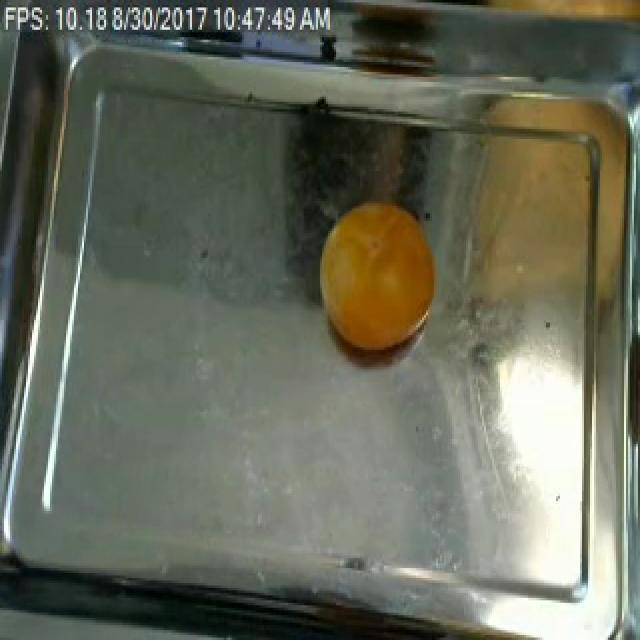Fruit: (454, 119, 604, 427), (318, 191, 444, 360)
